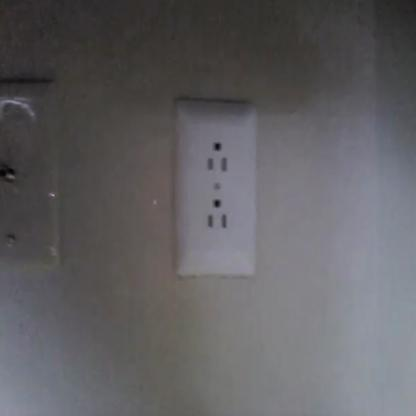OUTLET: (174, 104, 256, 278)
